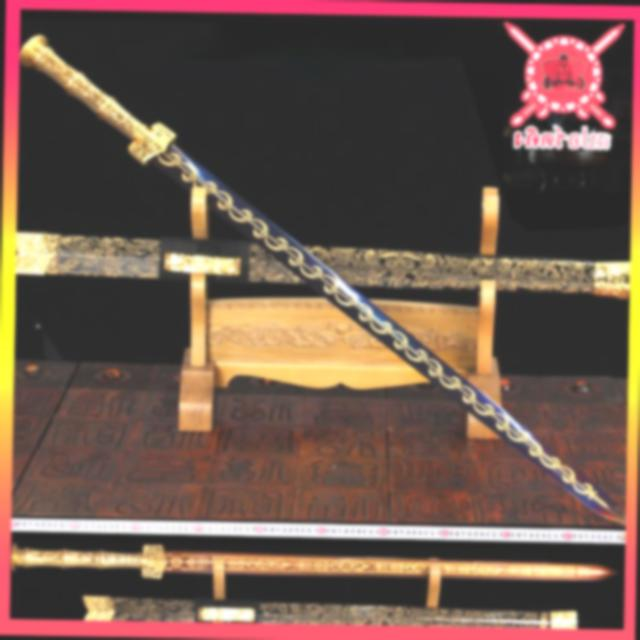long sword: (16, 34, 624, 510)
